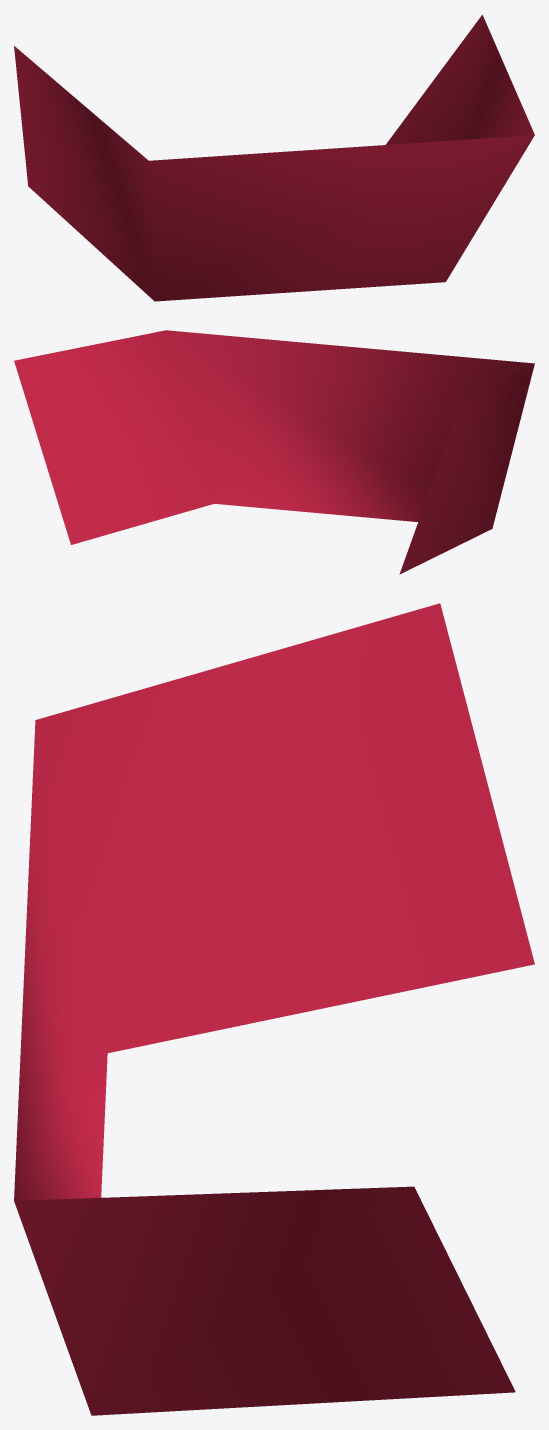
3 renders of one model, top to bottom at view 1: azimuth 30°, elevation 25°; view 2: azimuth 150°, elevation 25°; view 3: azimuth 270°, elevation 25°, orthographic. The views are drawn at different scales.
Visible parts, largest first — view 1: ef_498; view 2: ef_498; view 3: ef_498.
Boxes of the visible parts, x1=… form: ef_498: x1=14, y1=15, x2=534, y2=301; ef_498: x1=14, y1=330, x2=534, y2=574; ef_498: x1=14, y1=603, x2=534, y2=1415.
Size of the model in its own units: 0.6913 by 0.3632 by 0.3496.
Materials: 1 (1 with a texture image).
